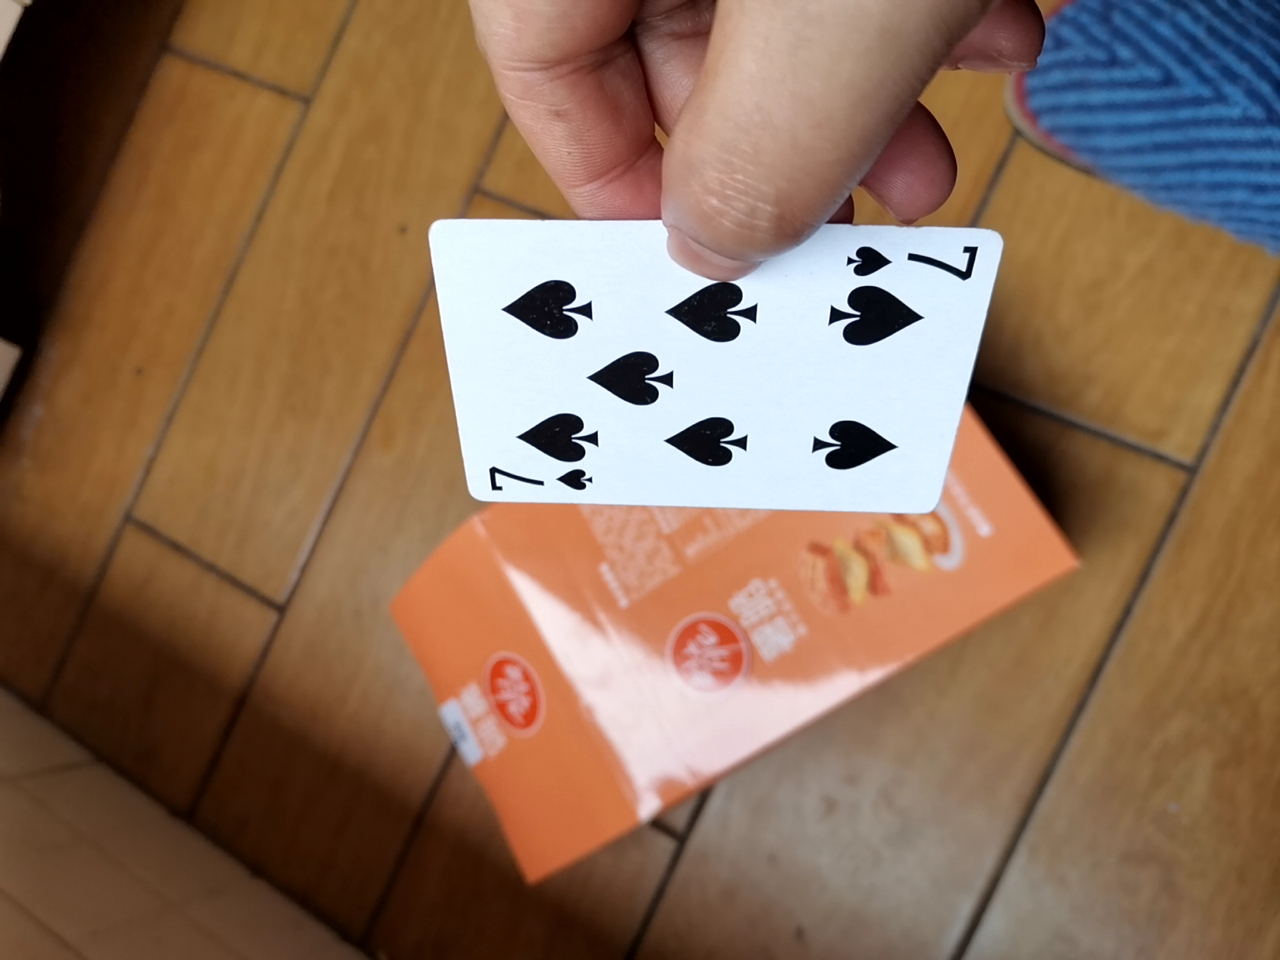ht 7: (422, 212, 989, 512)
